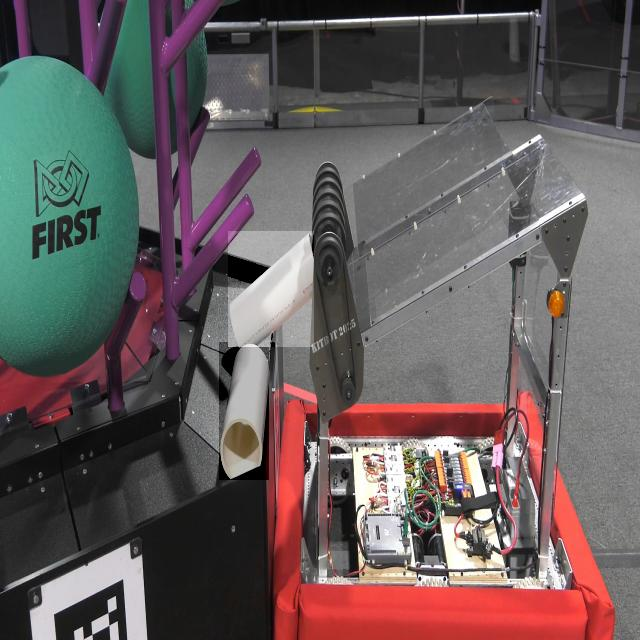Coral: (228, 231, 314, 347), (219, 342, 269, 480)
